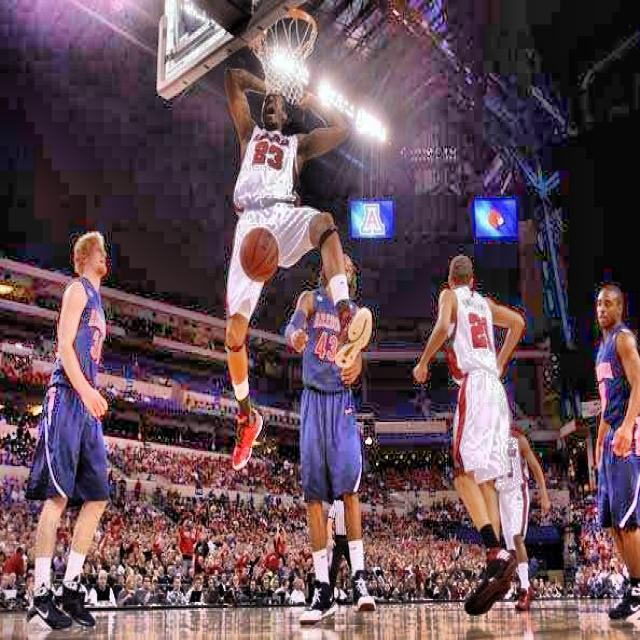board: (240, 226, 278, 283)
